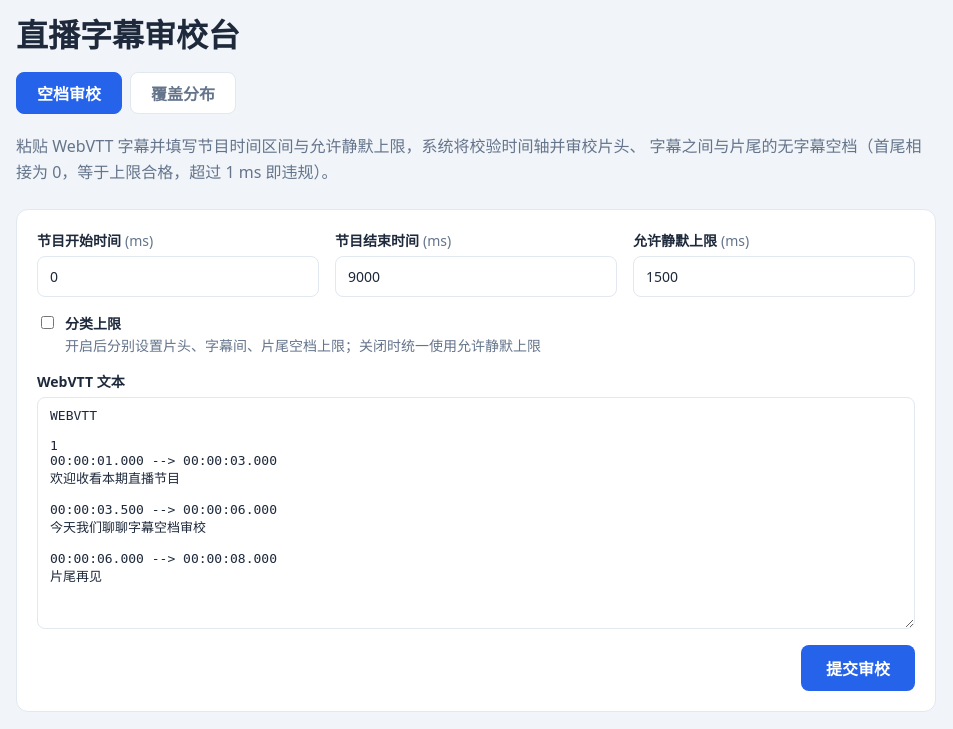
App page states › blocks the request when a category limit is empty and reports it next to the input
Step 1. Click the checkbox with test id "gap-limits-toggle" → (48, 323), box [41,316,54,329]
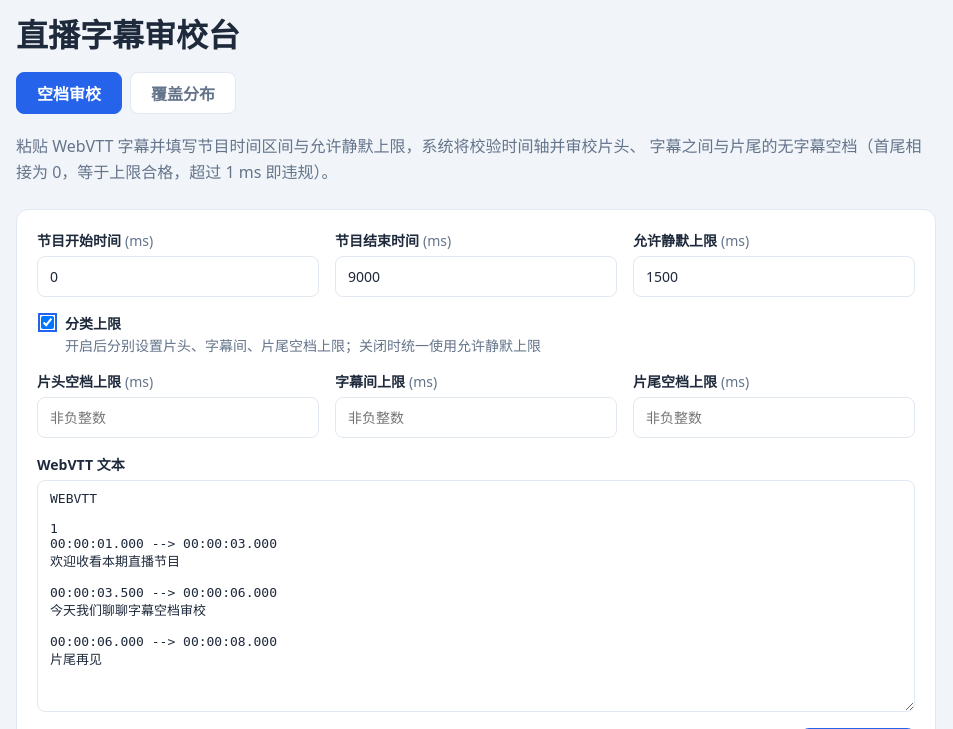
Step 2. Type "800" into the number field with test id "input-gap-head" → (178, 418), box [37,397,319,438]
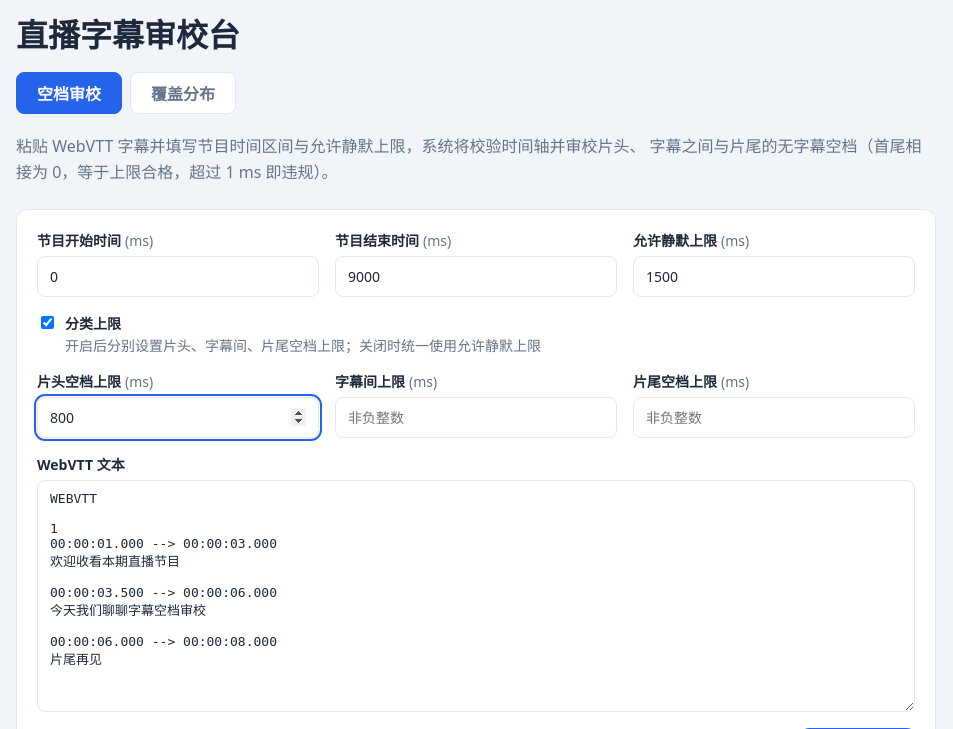
Step 3. Type "1200" into the number field with test id "input-gap-between" → (476, 418), box [335,397,617,438]
(page scrolled)
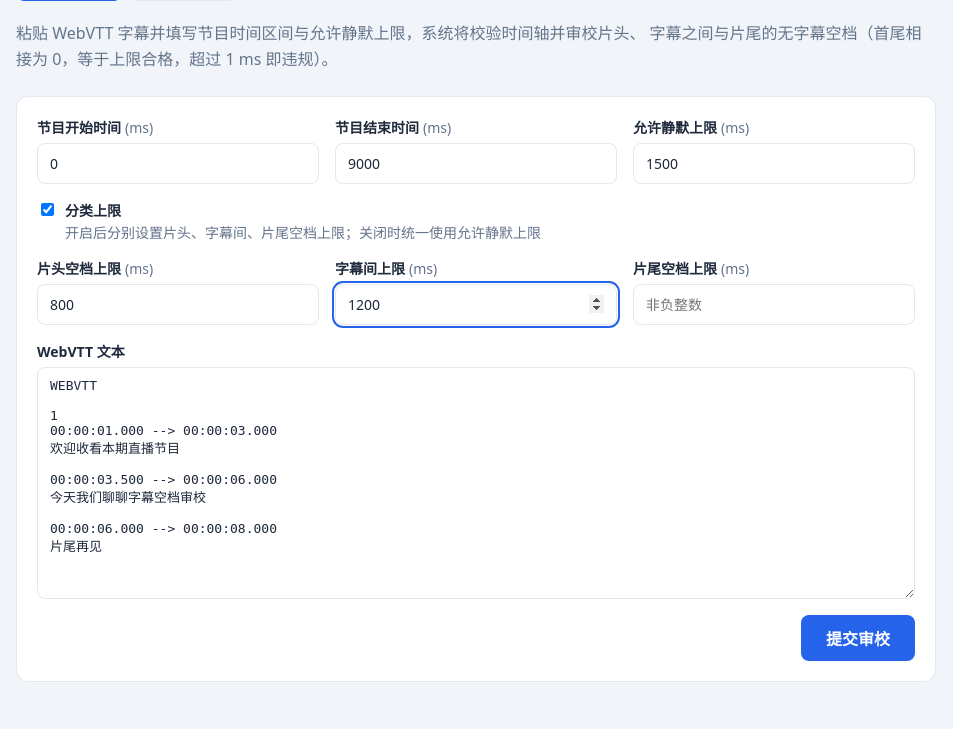
Step 4. Click the button with test id "submit" → (858, 638), box [801,615,915,661]
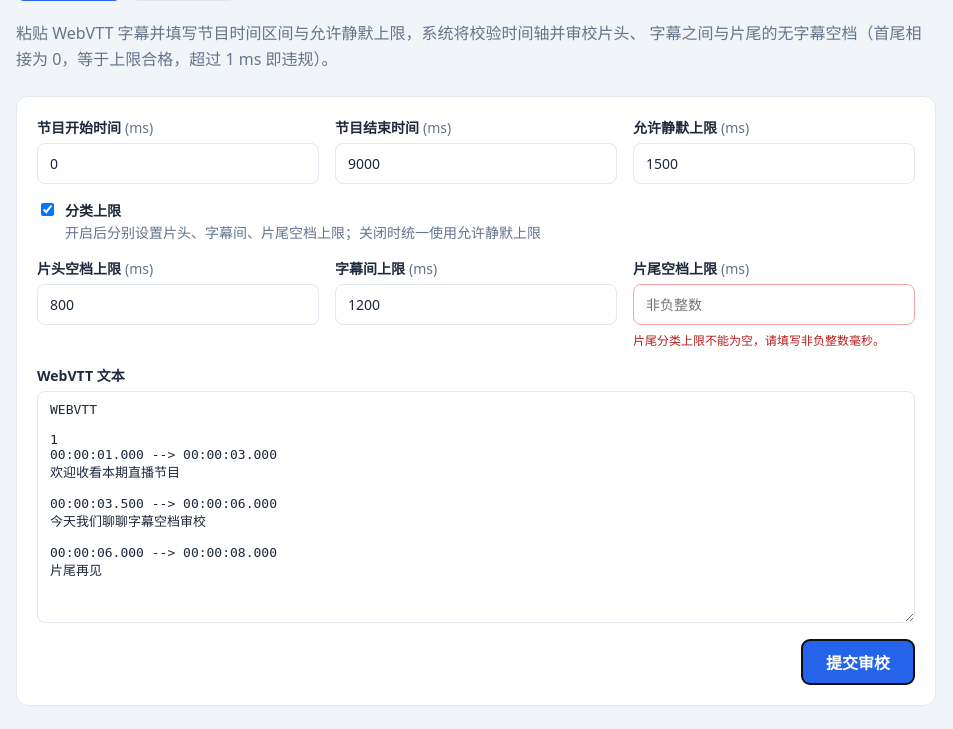
Expected: the text with test id "input-gap-tail-error" is shown, [633,331,915,349]
